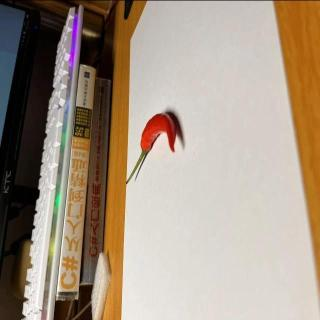Cabai Merah: (126, 113, 178, 185)
